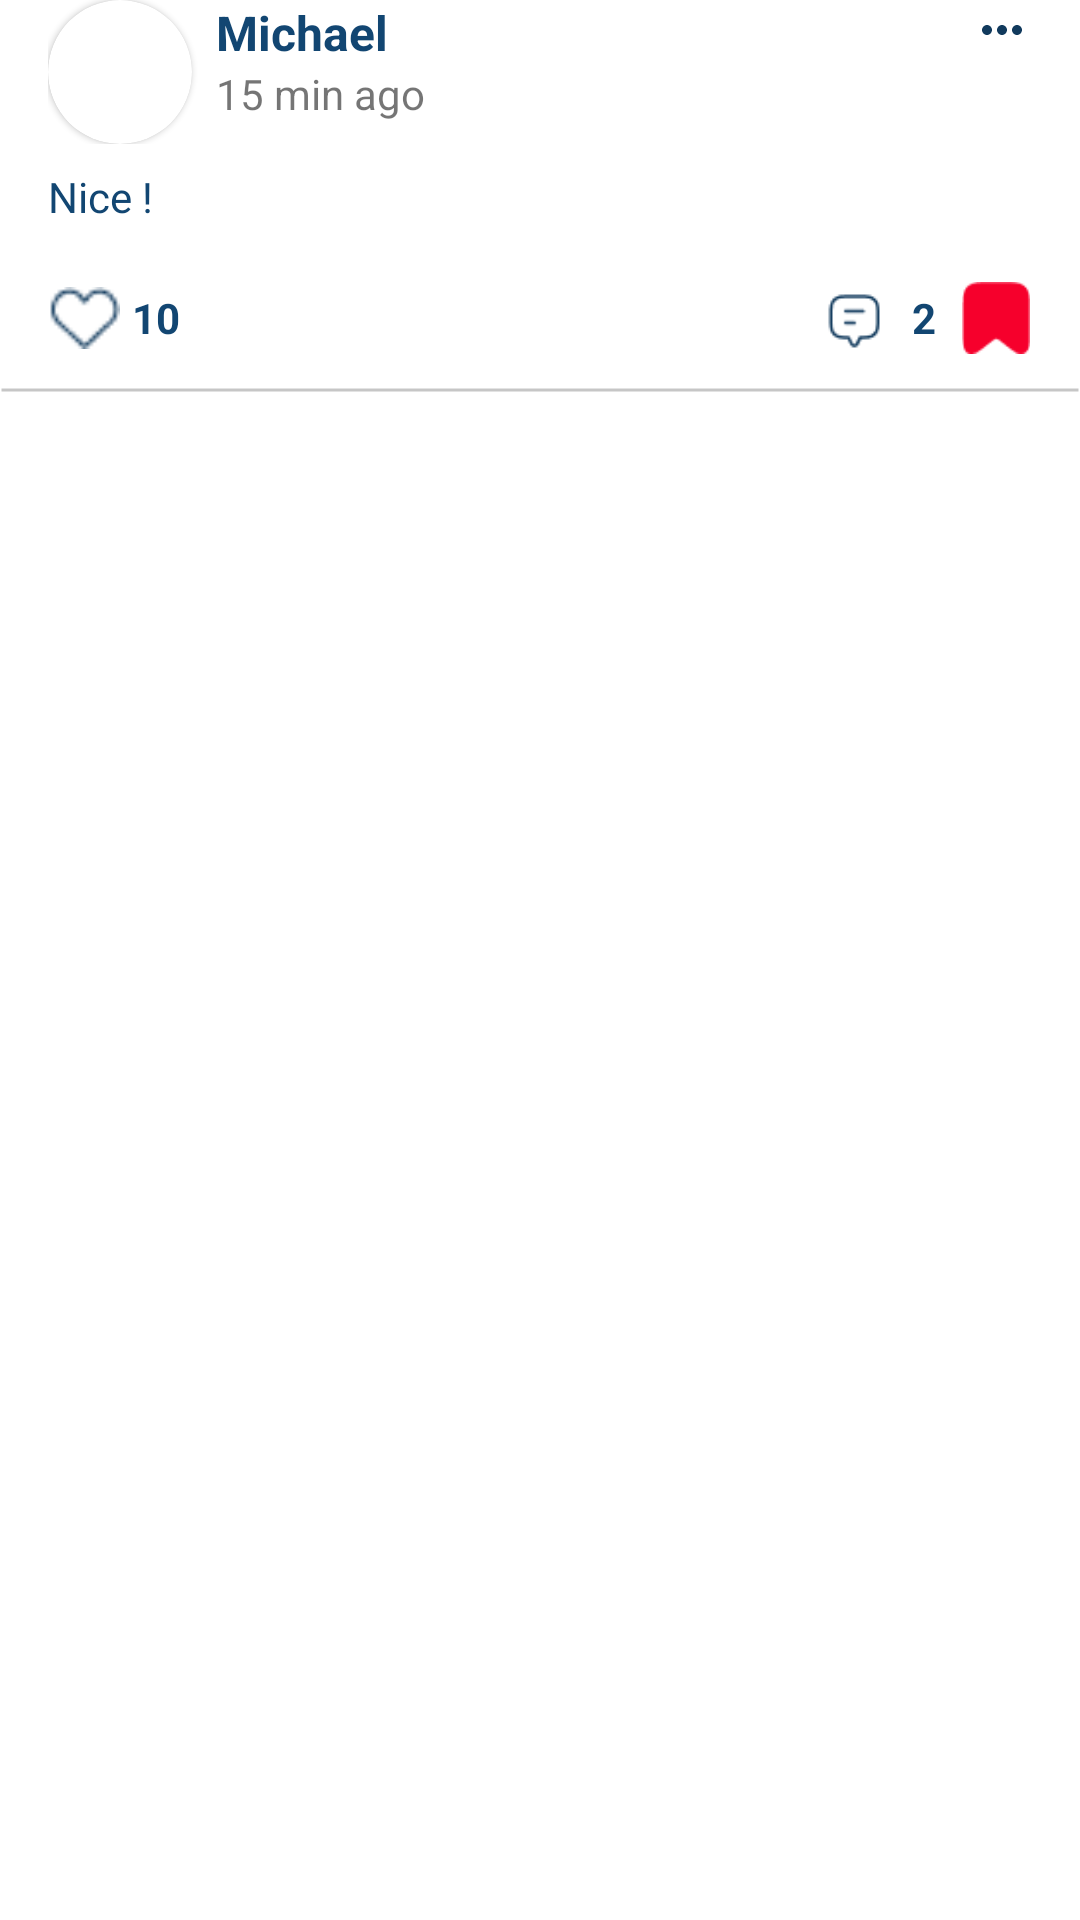

Named icons in this screenshot (1080×1920) and their centers, (x,y):
bookmarks: (996,318)
comments: (854,321)
heart: (85,318)
more horiz: (1002,30)
